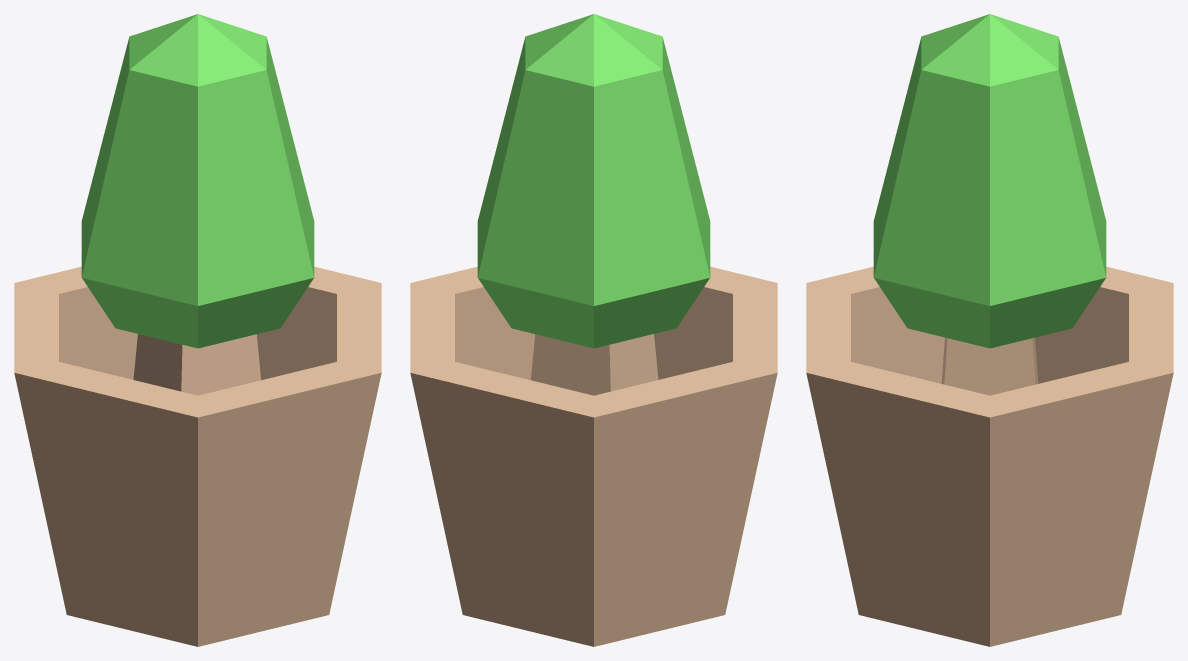
The model's file is plant_small_c.glb.
3 renders of one model, left to right at view 1: azimuth 30°, elevation 25°; view 2: azimuth 150°, elevation 25°; view 3: azimuth 270°, elevation 25°, orthographic.
Visible parts, largest first — view 1: plantSmall3(Clone); view 2: plantSmall3(Clone); view 3: plantSmall3(Clone).
Part boxes in pixels (<box>): plantSmall3(Clone): <box>14,14,381,646</box>; plantSmall3(Clone): <box>410,14,777,646</box>; plantSmall3(Clone): <box>806,14,1173,646</box>.
Size of the model in its own units: 0.2156 by 0.319 by 0.1867.
